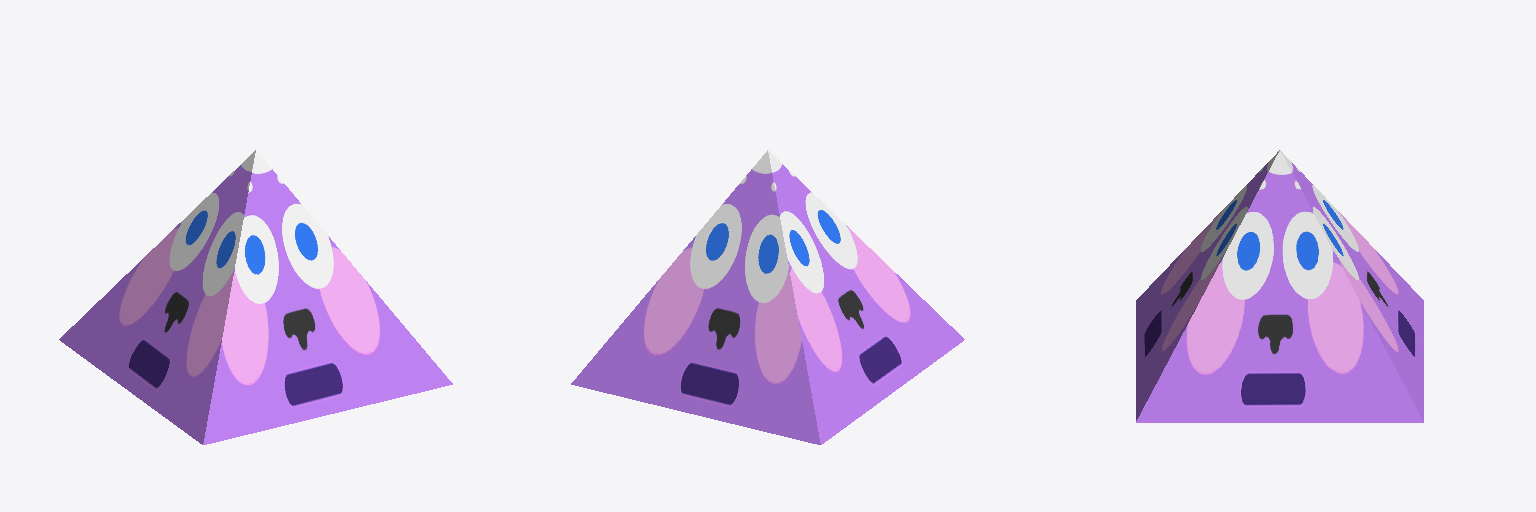
The picture shows the model from 3 angles: view 1: azimuth 30°, elevation 25°; view 2: azimuth 150°, elevation 25°; view 3: azimuth 270°, elevation 25°; orthographic projection.
Parts seen in each view (by area): view 1: Cube; view 2: Cube; view 3: Cube.
Part boxes in pixels (x1,y1,x2,y2): Cube: (59, 150, 452, 444); Cube: (571, 150, 964, 444); Cube: (1136, 150, 1423, 422).
Size of the model in its own units: 2 by 1.62 by 2.
1 materials, 1 textured.